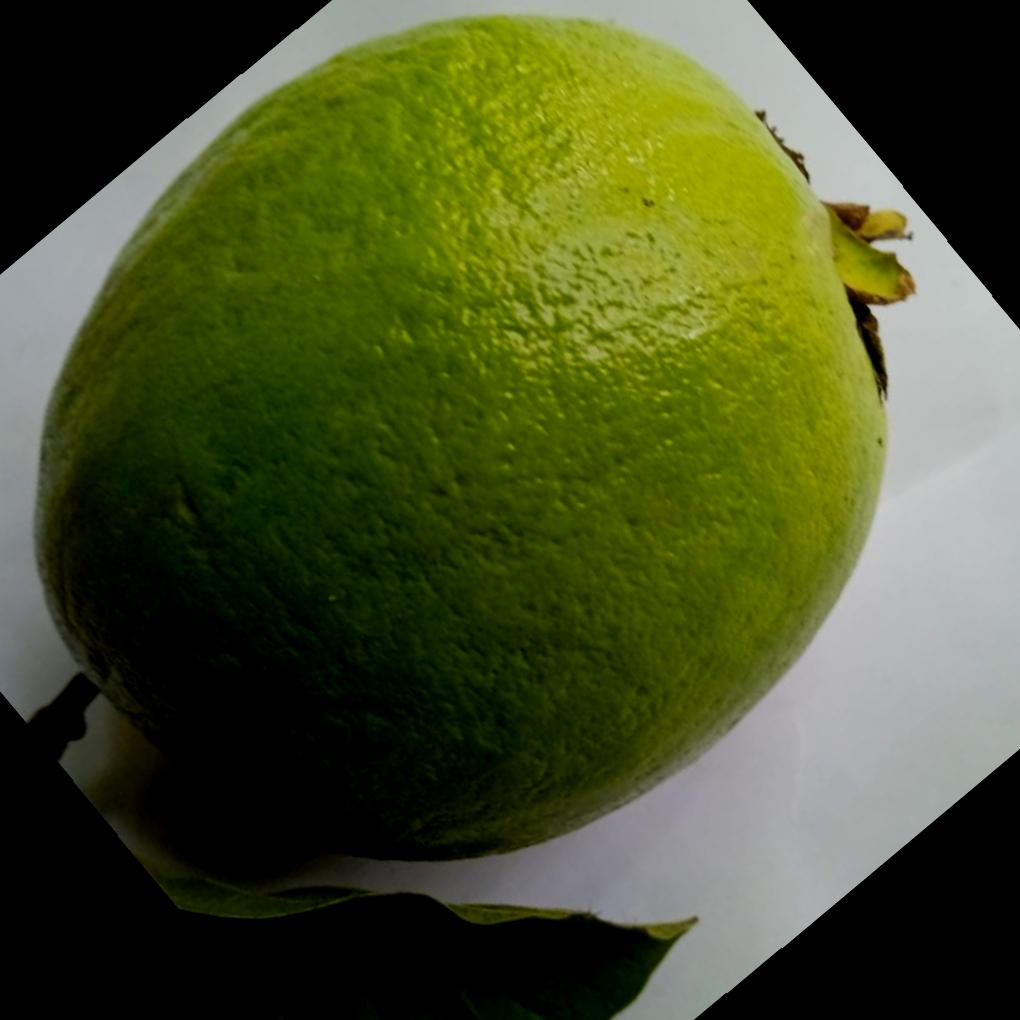FreshGuava: (31, 9, 919, 861)
